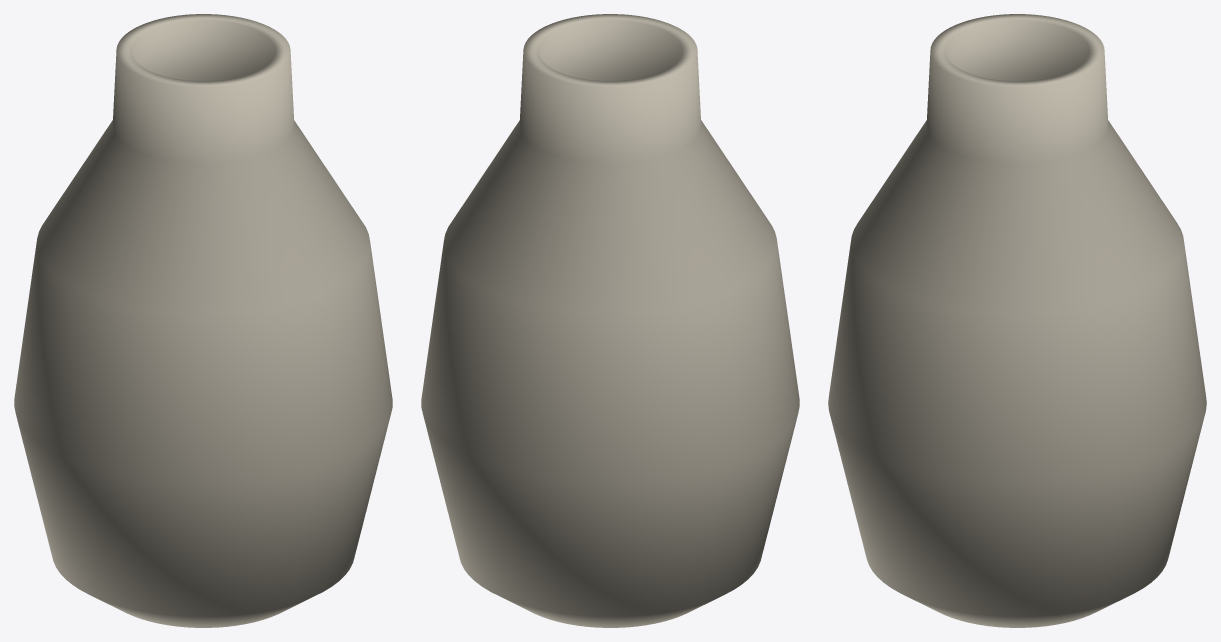
File: scandinavian.vase.gltf
3 views of the same model, side by side, from view 1: azimuth 30°, elevation 25°; view 2: azimuth 150°, elevation 25°; view 3: azimuth 270°, elevation 25° (orthographic).
Parts seen in each view (by area): view 1: scandinavian.vase.stoneware; view 2: scandinavian.vase.stoneware; view 3: scandinavian.vase.stoneware.
Boxes of the visible parts, <box> form: scandinavian.vase.stoneware: <box>14,14,392,627</box>; scandinavian.vase.stoneware: <box>421,14,799,627</box>; scandinavian.vase.stoneware: <box>828,14,1206,627</box>.
Size of the model in its own units: 0.18 by 0.28 by 0.18.
